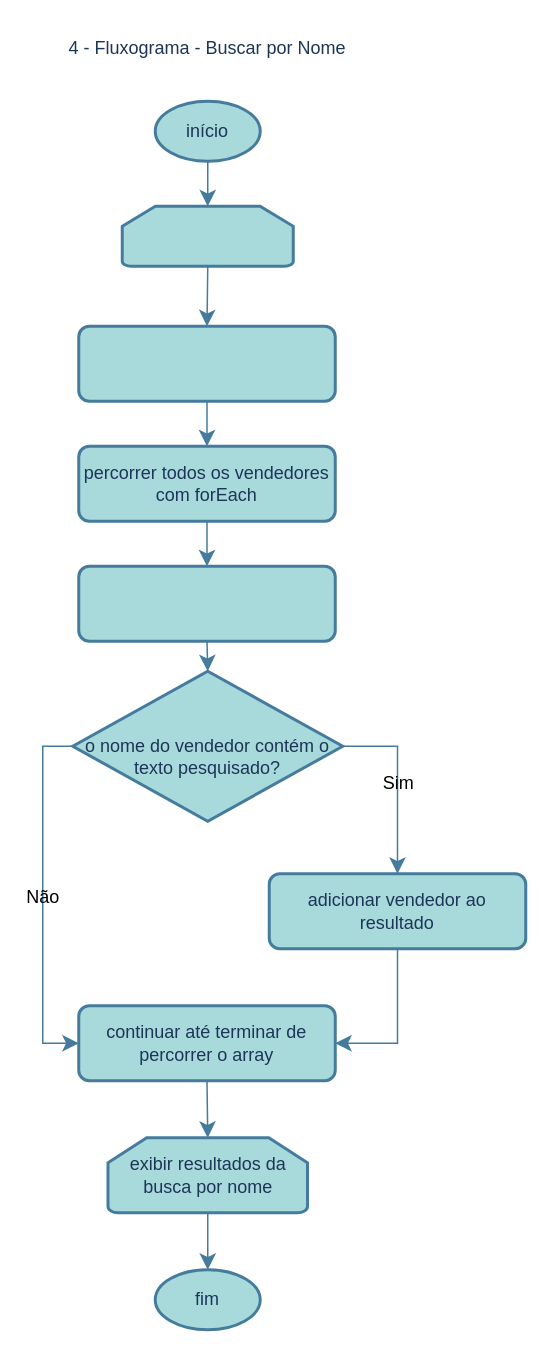
This 552x1356 diagram has some shape labels left out. The box of each missing label's shape, as (x1, y1, x2, y2) in pixels:
comparar o nome ignorando maiúsculas e minúsculas: (76, 564, 336, 642)
criar resultado vazio: [ ]: (76, 324, 336, 402)
receber nome: (120, 204, 294, 267)
